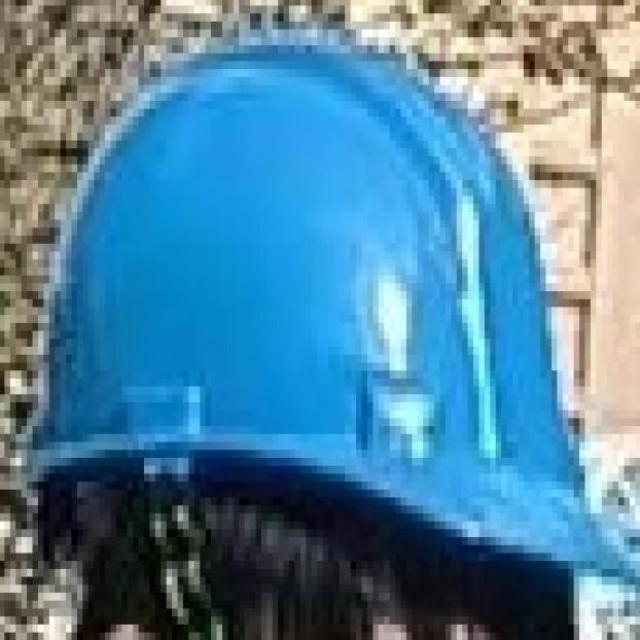blue helmet: (30, 43, 634, 592)
